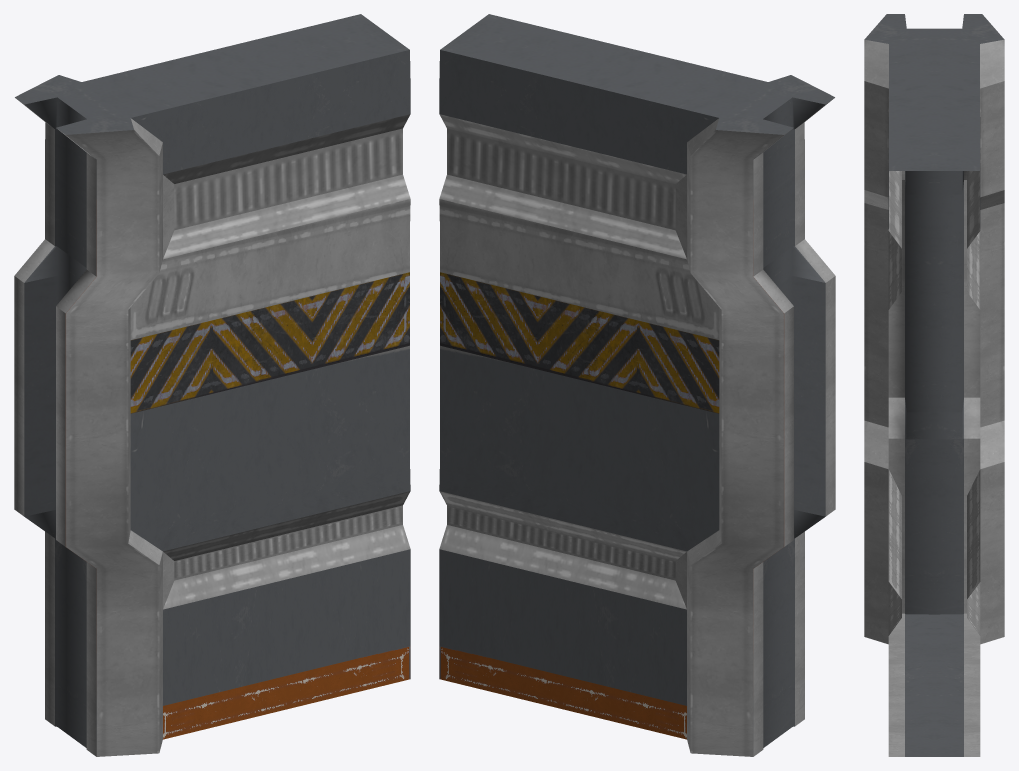
The model's file is door left.FBX.
3 renders of one model, left to right at view 1: azimuth 30°, elevation 25°; view 2: azimuth 150°, elevation 25°; view 3: azimuth 270°, elevation 25°, orthographic. The views are drawn at different scales.
Parts seen in each view (by area): view 1: Object029; view 2: Object029; view 3: Object029.
Part boxes in pixels (x1,y1,x2,y2): Object029: [14, 14, 410, 756]; Object029: [439, 14, 835, 756]; Object029: [864, 14, 1004, 756].
Bounding box in the file's own units: 115 × 201 × 43.64.
Materials: 1 (1 with a texture image).
